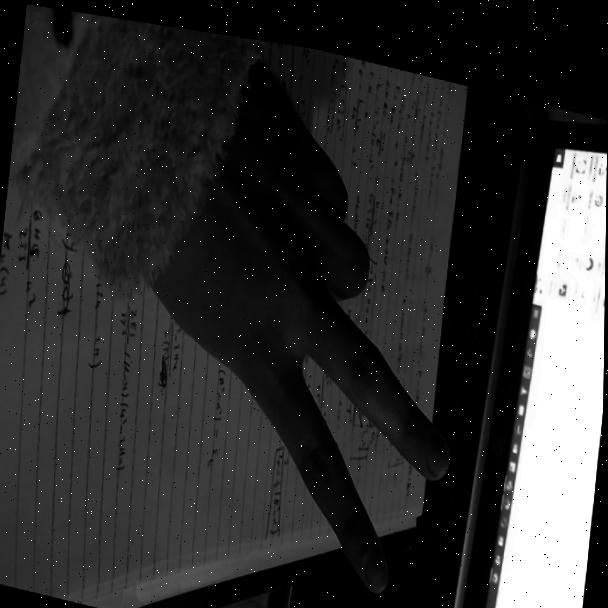two: (76, 15, 490, 608)
